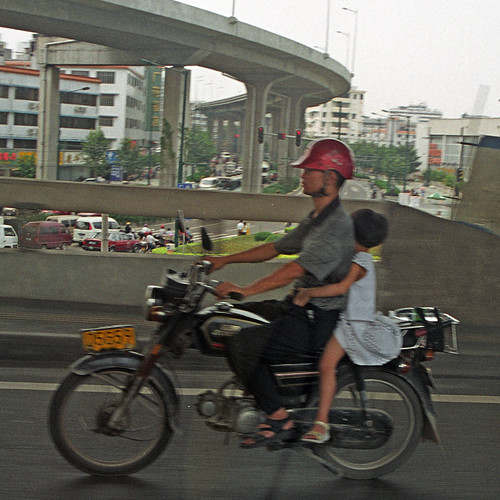helmet: (296, 133, 363, 176)
